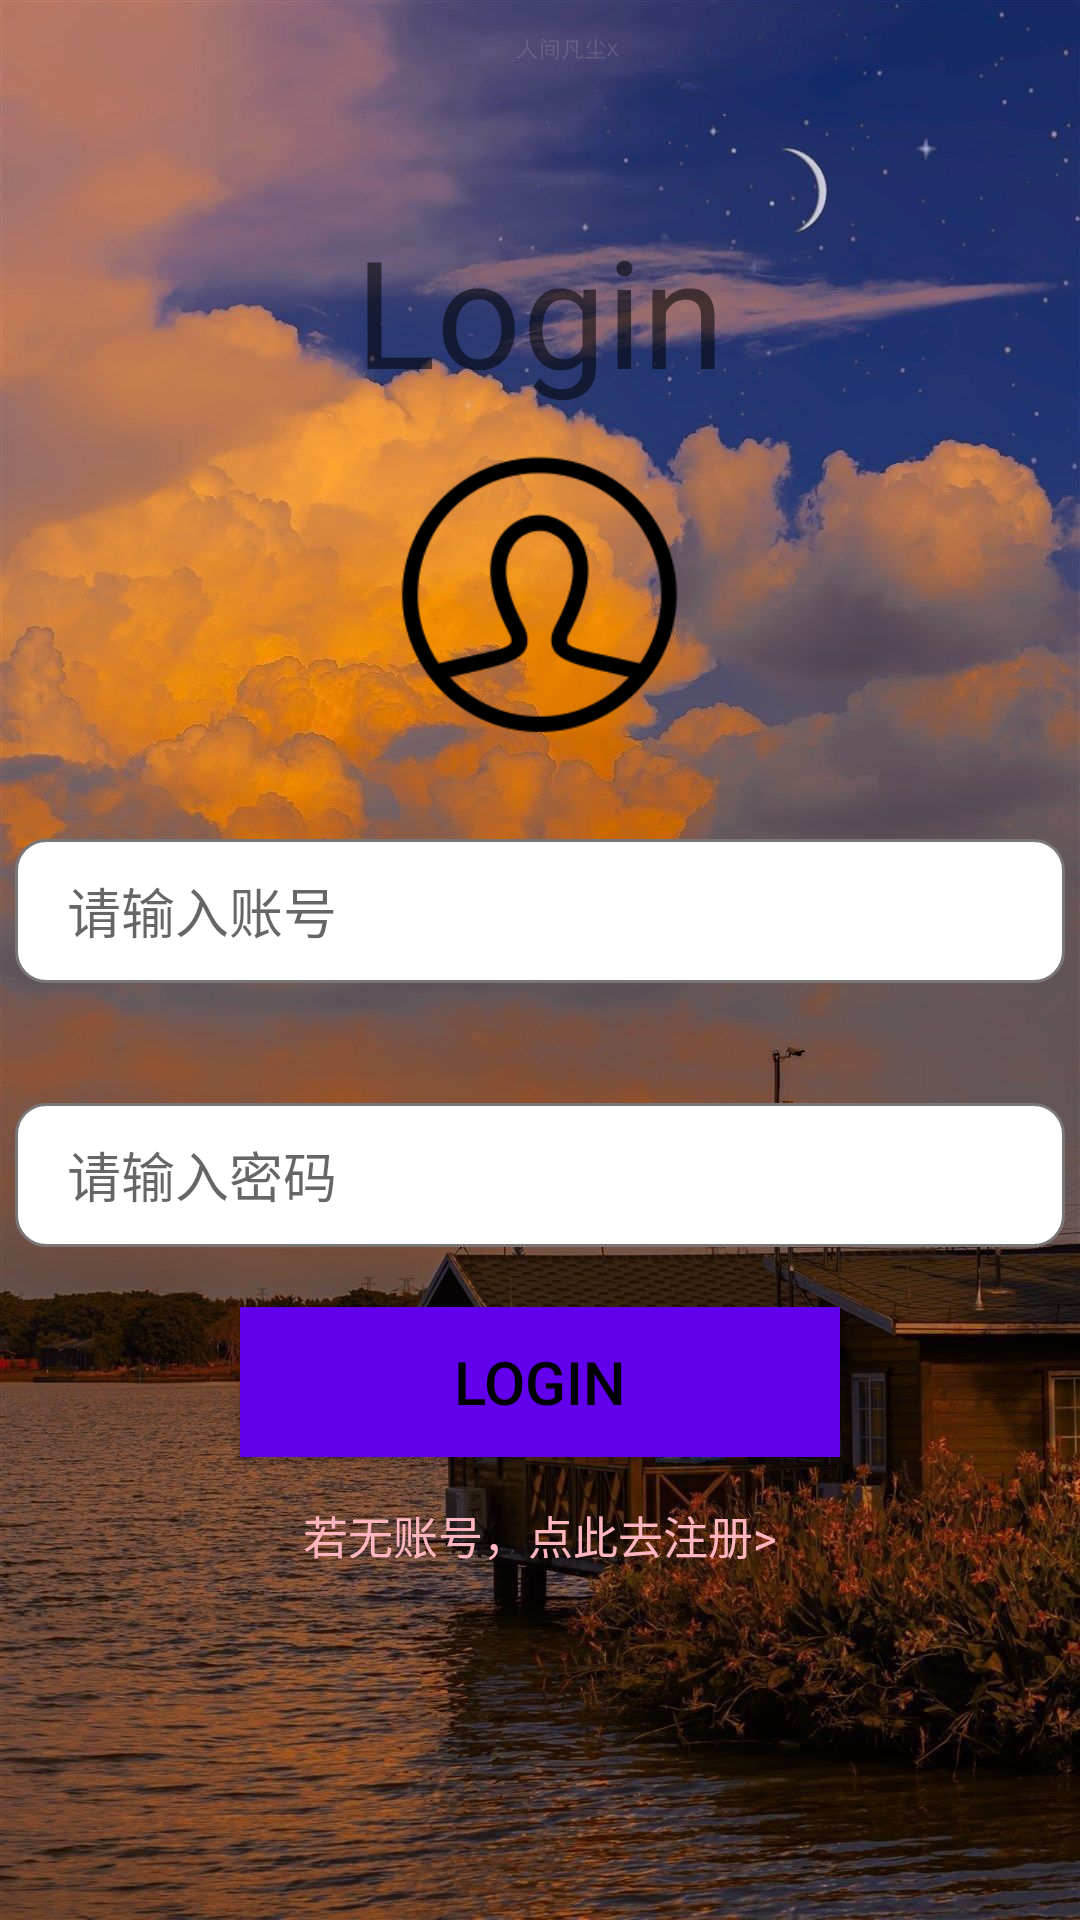

Screen size 1080w x 1920h. Icon name, then its center in pixels as (x,y):
head: (539,594)
